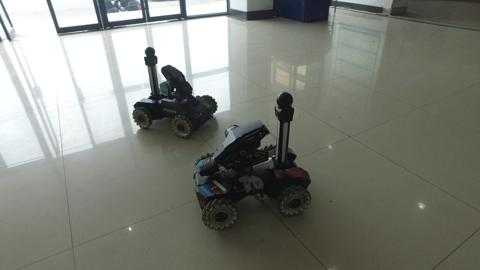chariot: (185, 87, 316, 231), (126, 43, 219, 141)
